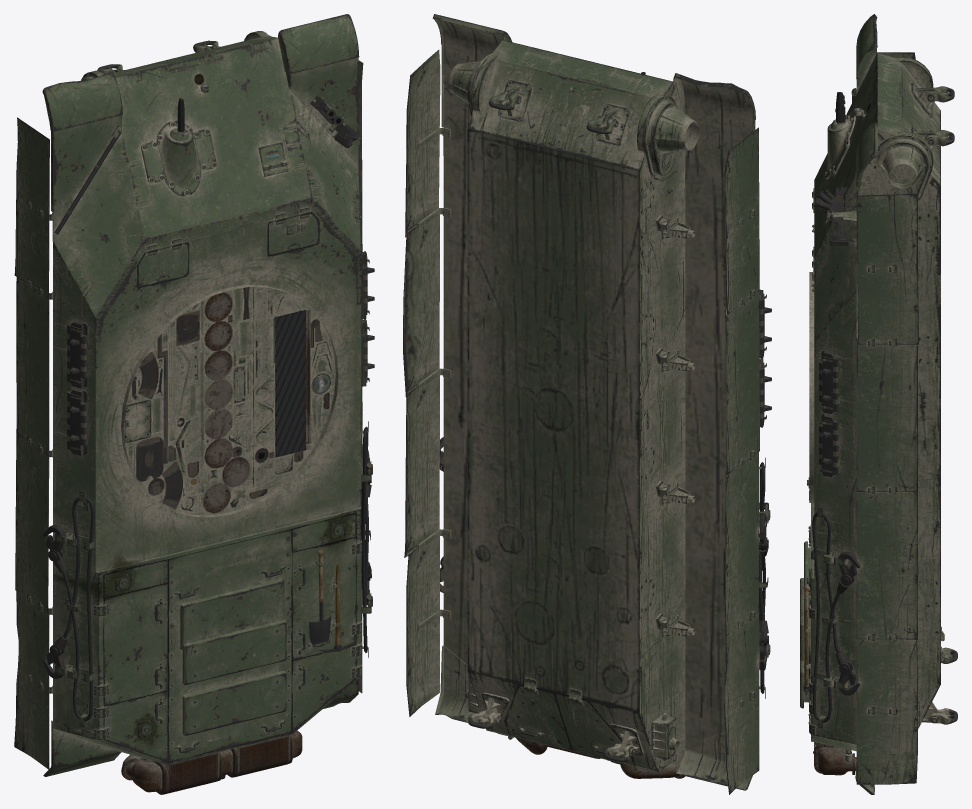
The model's file is Hull.glb.
The picture shows the model from 3 angles, left to right: view 1: azimuth 30°, elevation 25°; view 2: azimuth 150°, elevation 25°; view 3: azimuth 270°, elevation 25°; orthographic projection. The views are drawn at different scales.
Visible parts, largest first — view 1: set_0_group_0; view 2: set_0_group_0; view 3: set_0_group_0.
Boxes of the visible parts, x1,y1,x2,y2 form: set_0_group_0: (14, 14, 374, 794); set_0_group_0: (403, 14, 771, 794); set_0_group_0: (800, 14, 957, 794).
Size of the model in its own units: 3.46 by 7.26 by 1.57.
Materials: 1 (1 with a texture image).
